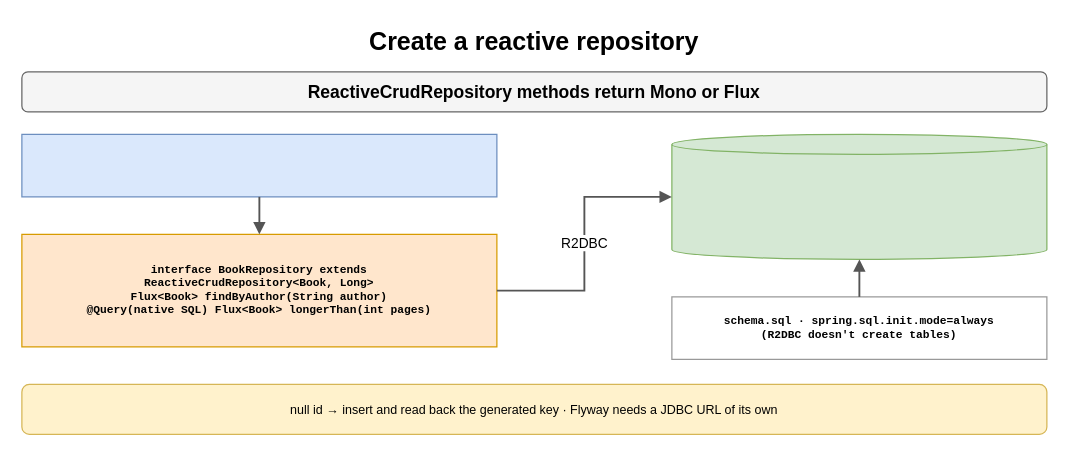
The diagram is 1069 pixels wide and 456 high, and some of its shapes have lost their labels. The centre of each missing label's shape, as x and y in pixels:
@Table("book") record Book(@Id Long id, String title, String author, int pages): (259,165)
PostgreSQL spring.r2dbc.url=r2dbc:postgresql:// localhost:5432/study: (859,196)
